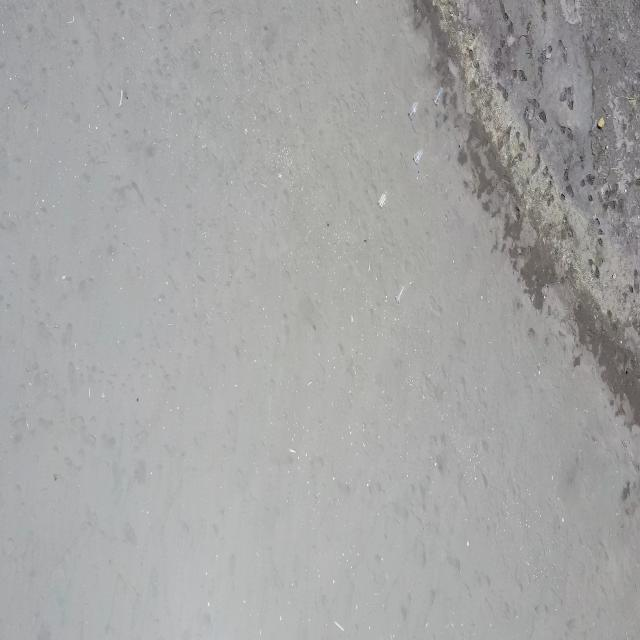takeaway-cup: (408, 101, 418, 119), (433, 87, 443, 105), (413, 148, 422, 165), (396, 285, 404, 303), (378, 192, 386, 208)
